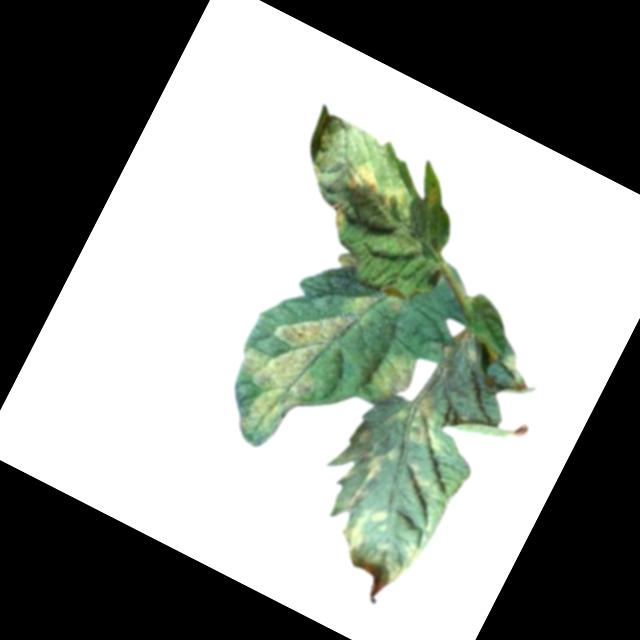Leaf_Mold: (212, 252, 382, 459), (340, 499, 434, 585), (327, 424, 394, 511), (342, 158, 421, 225), (397, 388, 463, 458), (364, 346, 425, 412), (320, 198, 355, 235), (376, 283, 412, 317), (421, 182, 447, 214)
